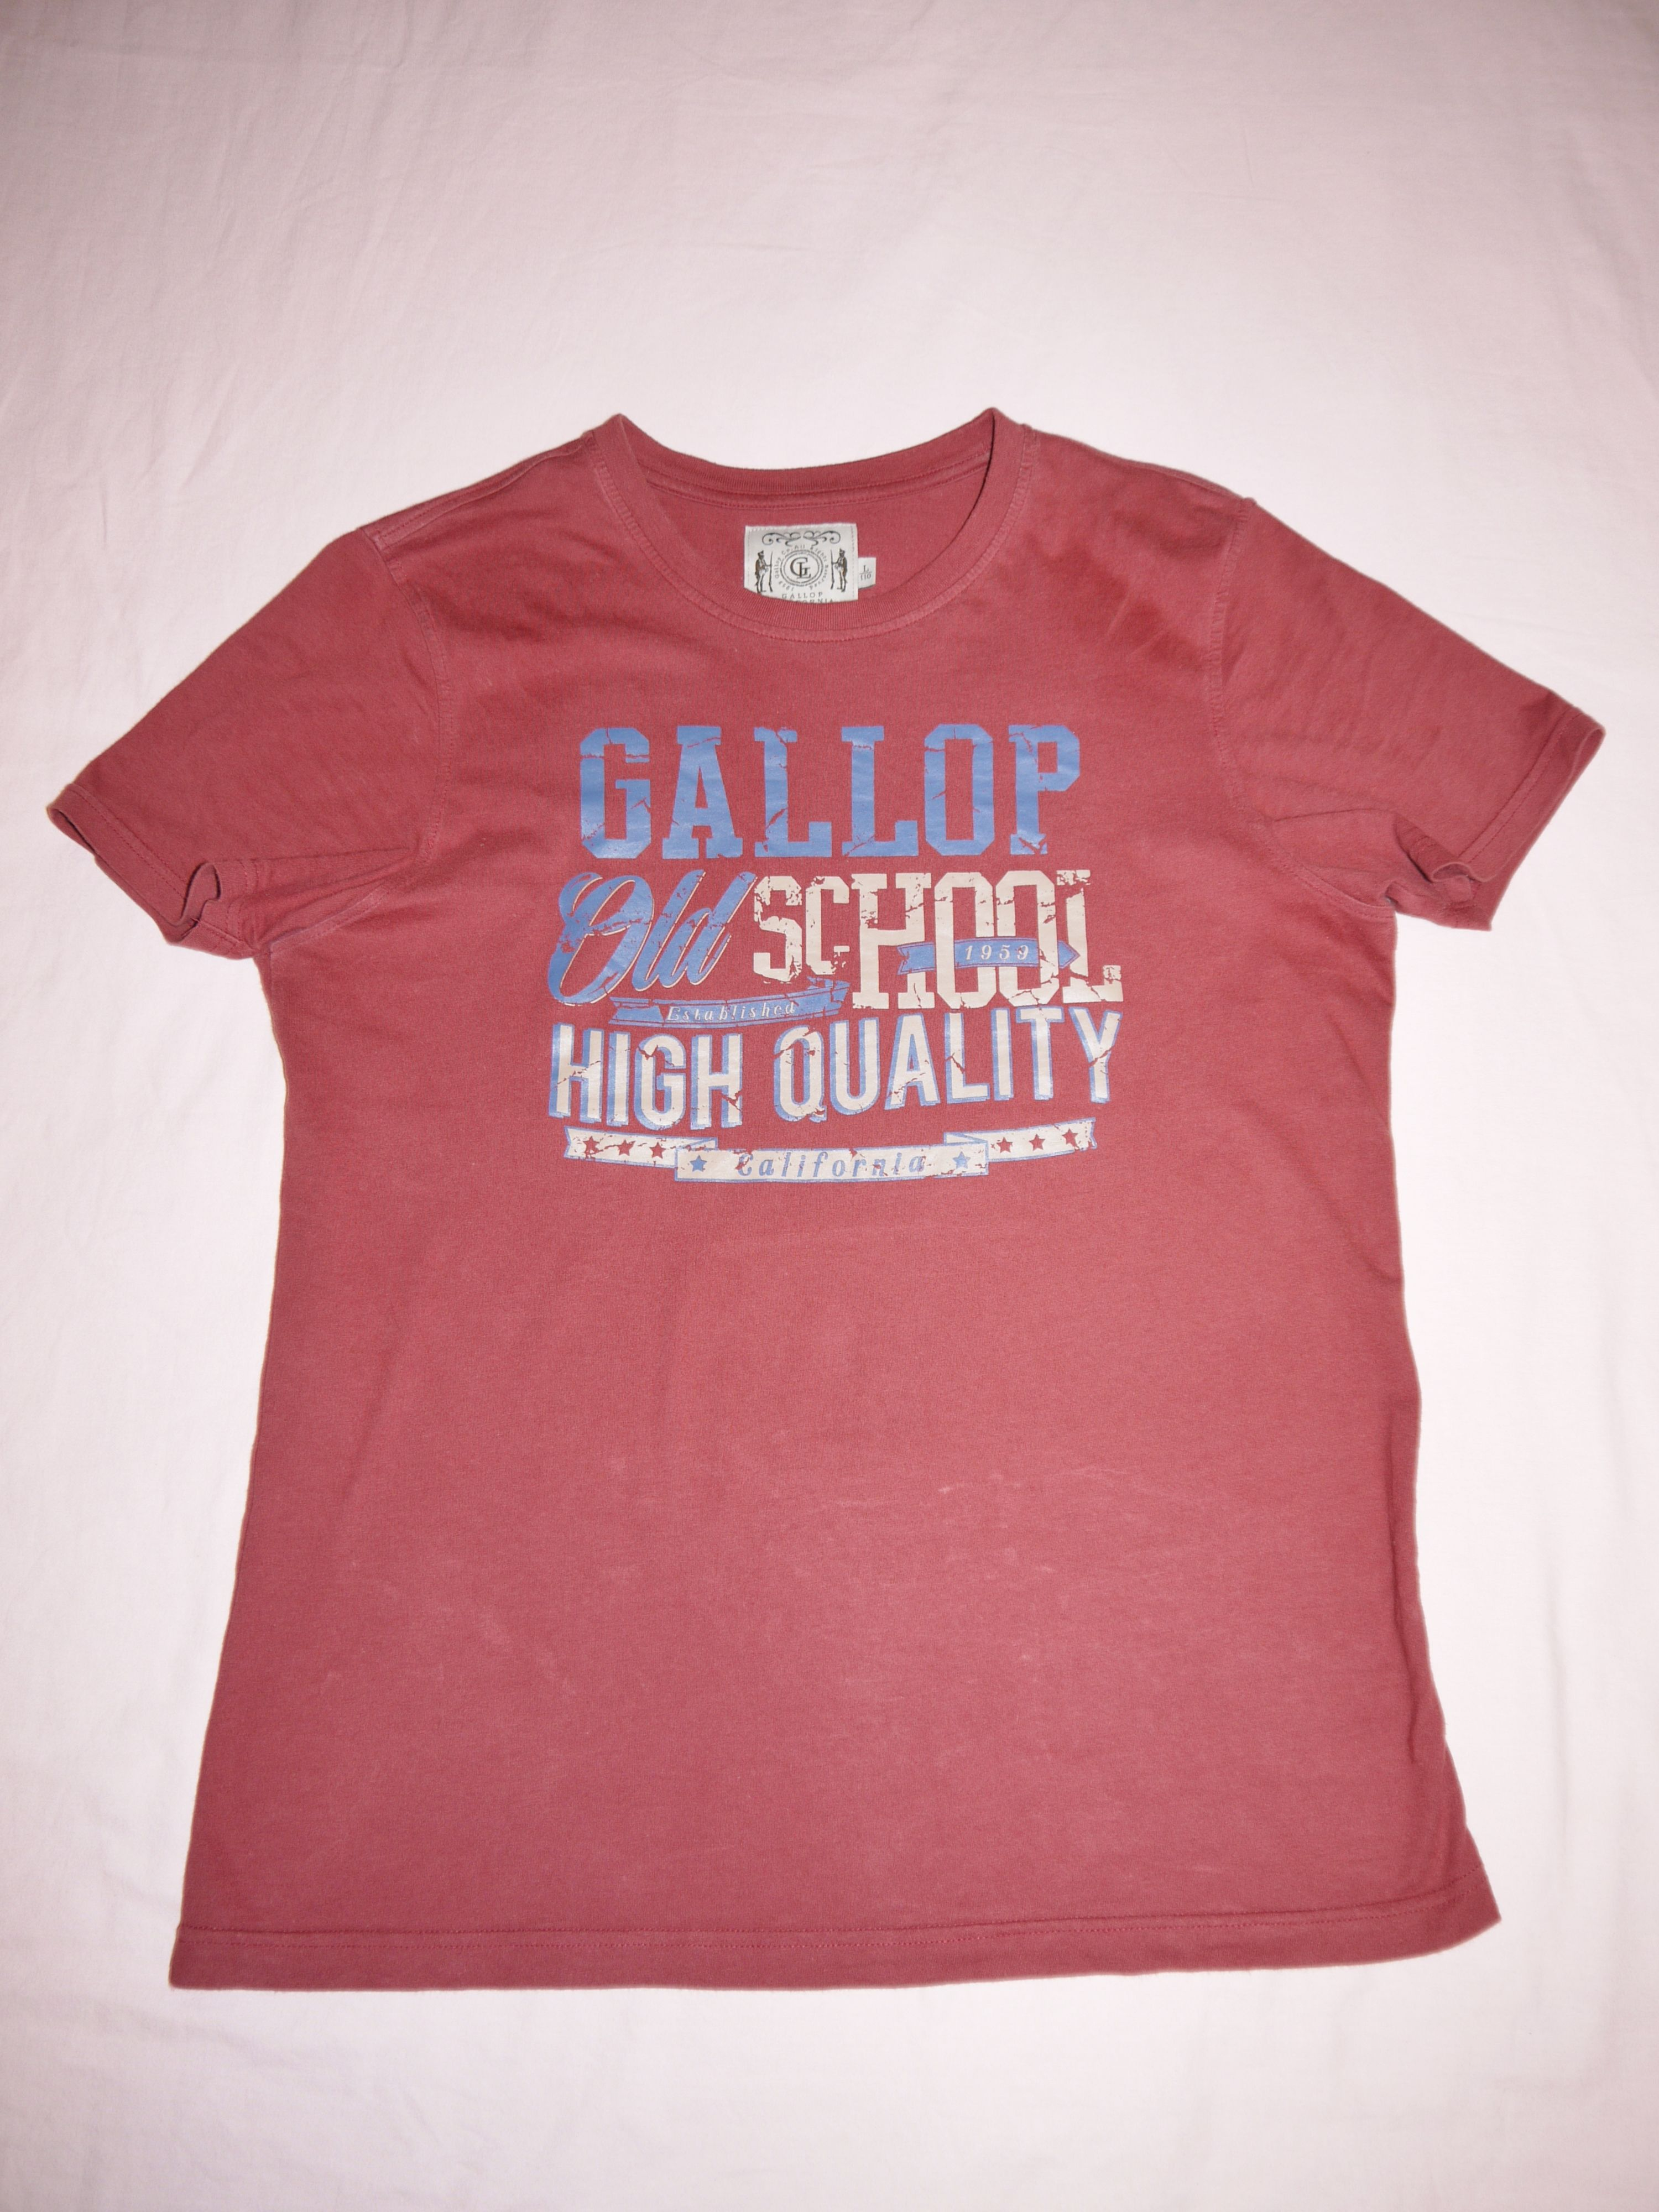clothes: (28, 399, 1593, 1956)
